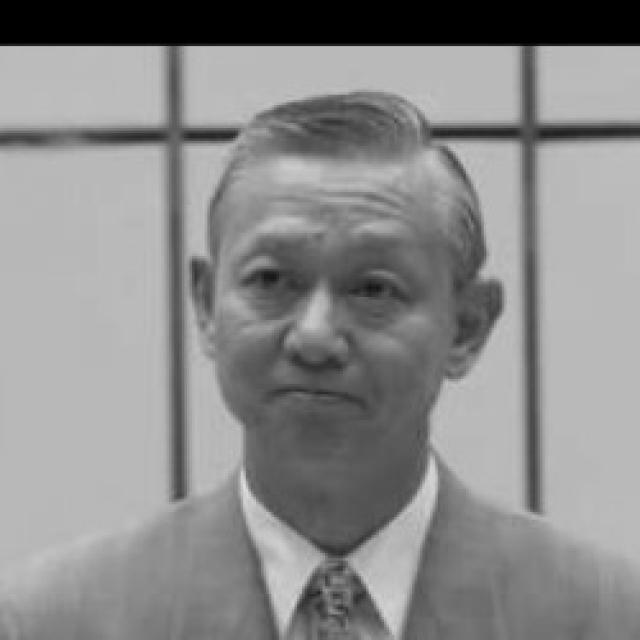real: (201, 78, 487, 488), (225, 249, 420, 320)
